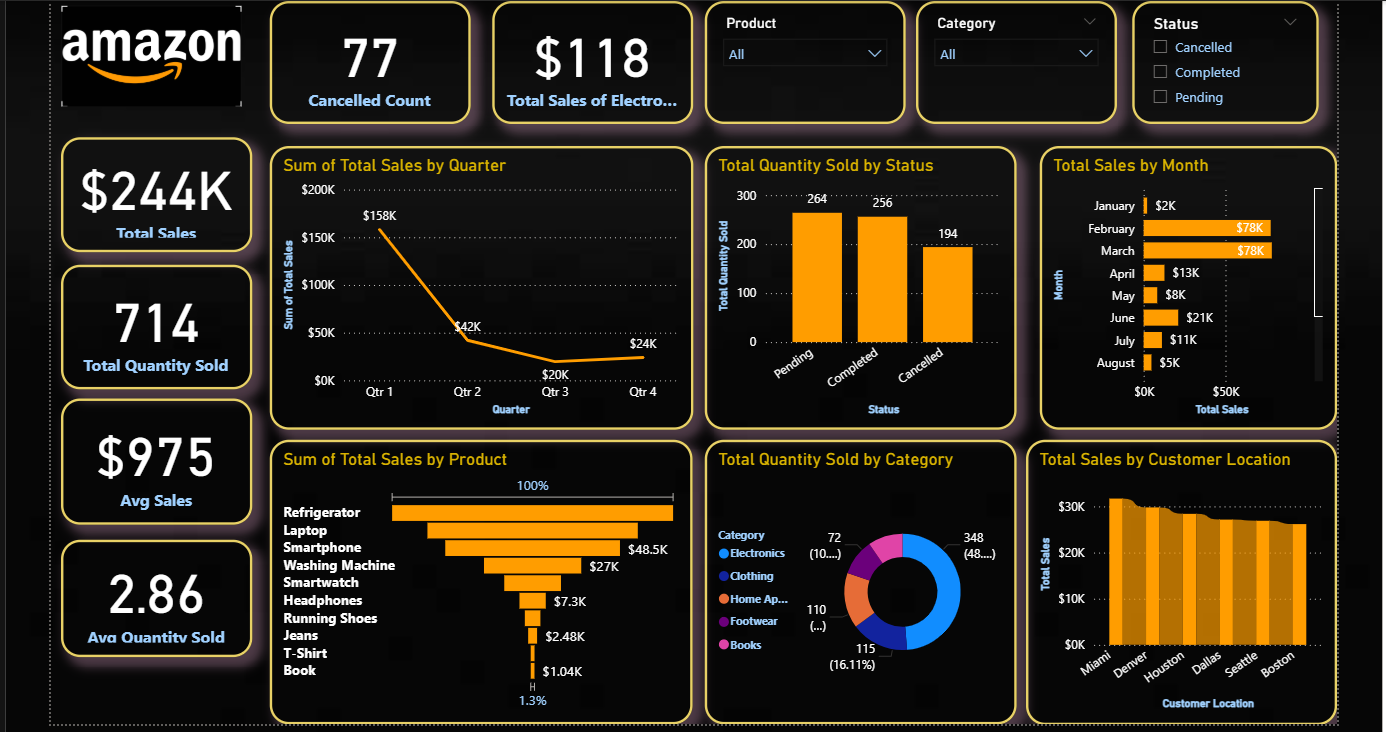

The page's visual inventory and layout, read from the dashboard file:
{"tool":"powerbi","page":{"name":"Amazon Sales DashBoard","canvas":[1280,720],"ordinal":0},"visuals":[{"type":"image","box":[0,0,200.3,109.8],"z":0},{"type":"card","fields":{"Values":["Measure Table.Total Sales"]},"box":[10,135.6,190.3,114.4],"z":1},{"type":"card","fields":{"Values":["Measure Table.Total Quantity Sold"]},"box":[10,262.5,190.3,124.4],"z":2},{"type":"card","fields":{"Values":["Measure Table.Avg Sales"]},"box":[10,395.6,190.3,125.6],"z":3},{"type":"card","fields":{"Values":["Measure Table.Avg Quantity Sold"]},"box":[10,536.1,190.3,116.9],"z":4},{"type":"card","fields":{"Values":["Measure Table.Cancelled Count"]},"box":[218.2,0,200.3,122.1],"z":5},{"type":"card","fields":{"Values":["Measure Table.Total Sales of Electronics"]},"box":[439.1,0,200.3,122.1],"z":6},{"type":"slicer","fields":{"Values":["Amazon_Cleaned.Product"]},"box":[650.4,0,200.3,122.1],"z":7},{"type":"slicer","fields":{"Values":["Amazon_Cleaned.Category"]},"box":[860.4,0,200.3,122.1],"z":8},{"type":"slicer","fields":{"Values":["Amazon_Cleaned.Status"]},"box":[1075.8,0,185.2,122.1],"z":9},{"type":"lineChart","fields":{"Y":["Sum(Amazon_Cleaned.Total Sales)"],"Category":["DateTable.Date.Variation.Date Hierarchy.Year","DateTable.Date.Variation.Date Hierarchy.Quarter","DateTable.Date.Variation.Date Hierarchy.Month","DateTable.Date.Variation.Date Hierarchy.Day"]},"box":[218.2,144.1,421.3,282.7],"z":10},{"type":"clusteredColumnChart","fields":{"Category":["Amazon_Cleaned.Status"],"Y":["Measure Table.Total Quantity Sold"]},"box":[650.4,144.1,310.1,282.7],"z":11},{"type":"clusteredBarChart","fields":{"Y":["Measure Table.Total Sales"],"Category":["DateTable.Date.Variation.Date Hierarchy.Quarter","DateTable.Date.Variation.Date Hierarchy.Month","DateTable.Date.Variation.Date Hierarchy.Day"]},"box":[984,144.3,296.1,282.4],"z":12},{"type":"funnel","fields":{"Category":["Amazon_Cleaned.Product"],"Y":["Sum(Amazon_Cleaned.Total Sales)"]},"box":[218,437,421,283],"z":13},{"type":"donutChart","fields":{"Category":["Amazon_Cleaned.Category"],"Y":["Measure Table.Total Quantity Sold"]},"box":[650,437,310,283],"z":14},{"type":"ribbonChart","fields":{"Category":["Amazon_Cleaned.Customer Location"],"Y":["Measure Table.Total Sales"]},"box":[970.3,436.6,309.7,283.6],"z":15}]}

Visuals, with their boxes in screenshot pixels (x1, y1, x2, y2):
image: x1=47, y1=0, x2=248, y2=110
card - Measure Table.Total Sales: x1=57, y1=136, x2=248, y2=251
card - Measure Table.Total Quantity Sold: x1=57, y1=263, x2=248, y2=388
card - Measure Table.Avg Sales: x1=57, y1=397, x2=248, y2=523
card - Measure Table.Avg Quantity Sold: x1=57, y1=538, x2=248, y2=655
card - Measure Table.Cancelled Count: x1=266, y1=0, x2=467, y2=123
card - Measure Table.Total Sales of Electronics: x1=488, y1=0, x2=689, y2=123
slicer - Amazon_Cleaned.Product: x1=700, y1=0, x2=901, y2=123
slicer - Amazon_Cleaned.Category: x1=910, y1=0, x2=1111, y2=123
slicer - Amazon_Cleaned.Status: x1=1127, y1=0, x2=1312, y2=123
lineChart - Sum(Amazon_Cleaned.Total Sales) x DateTable.Date.Variation.Date Hierarchy.Year: x1=266, y1=145, x2=689, y2=428
clusteredColumnChart - Amazon_Cleaned.Status x Measure Table.Total Quantity Sold: x1=700, y1=145, x2=1011, y2=428
clusteredBarChart - Measure Table.Total Sales x DateTable.Date.Variation.Date Hierarchy.Quarter: x1=1034, y1=145, x2=1332, y2=428
funnel - Amazon_Cleaned.Product x Sum(Amazon_Cleaned.Total Sales): x1=266, y1=439, x2=688, y2=723
donutChart - Amazon_Cleaned.Category x Measure Table.Total Quantity Sold: x1=699, y1=439, x2=1010, y2=723
ribbonChart - Amazon_Cleaned.Customer Location x Measure Table.Total Sales: x1=1021, y1=438, x2=1332, y2=723
